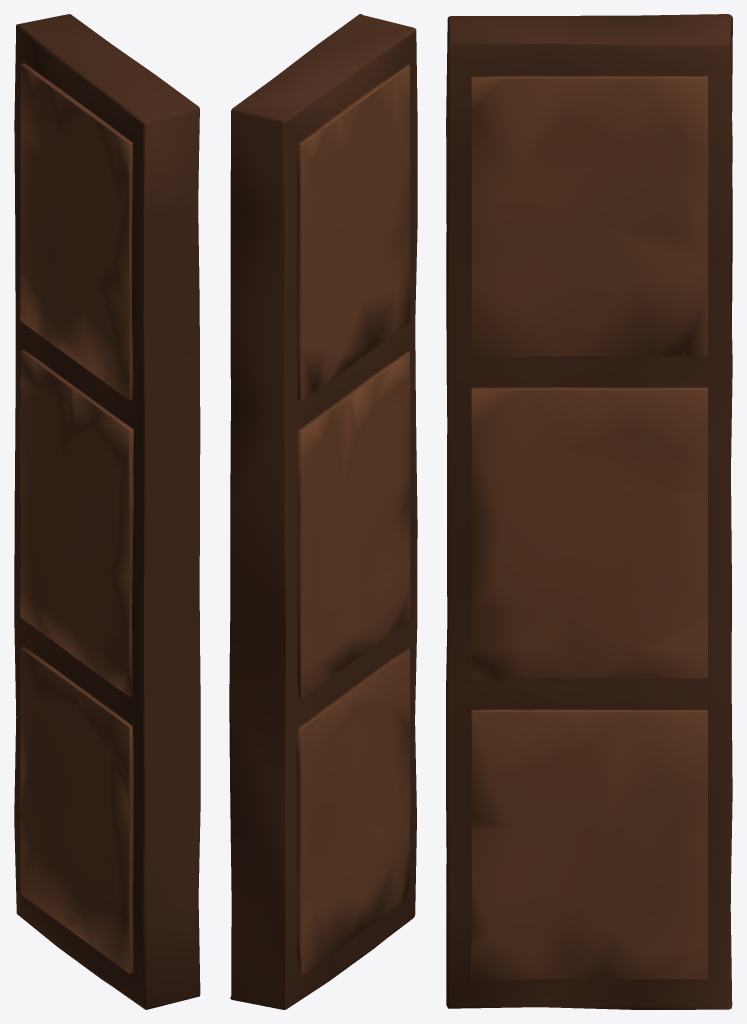
The model's file is den_dresser_wall_lod1.glb.
3 views of the same model, side by side, from view 1: azimuth 30°, elevation 25°; view 2: azimuth 150°, elevation 25°; view 3: azimuth 270°, elevation 25° (orthographic). The views are drawn at different scales.
Parts seen in each view (by area): view 1: den_dresser_wall.001; view 2: den_dresser_wall.001; view 3: den_dresser_wall.001.
Boxes of the visible parts, x1,y1,x2,y2 form: den_dresser_wall.001: [14, 14, 200, 1009]; den_dresser_wall.001: [229, 14, 417, 1009]; den_dresser_wall.001: [446, 14, 732, 1009].
Bounding box in the file's own units: 6.98 × 90.23 × 24.22.
